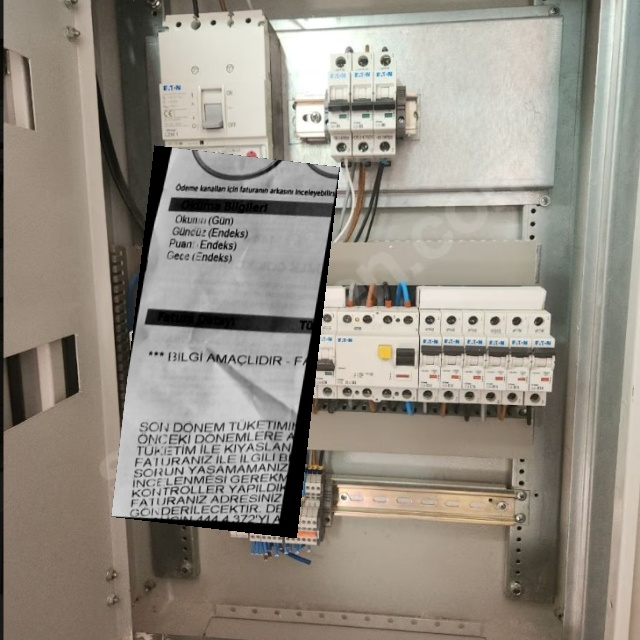electricity-bill: (110, 145, 339, 538)
